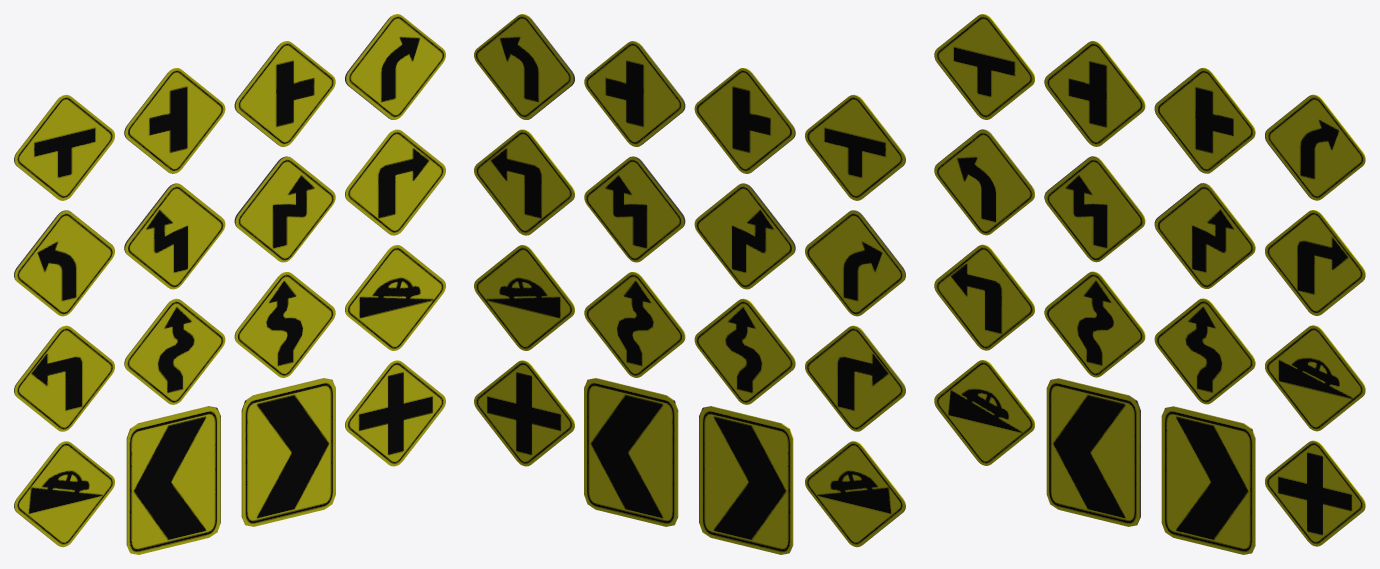
The model's file is Warning.fbx.
The picture shows the model from 3 angles, left to right: view 1: azimuth 30°, elevation 25°; view 2: azimuth 150°, elevation 25°; view 3: azimuth 330°, elevation 25°; orthographic projection.
Visible parts, largest first — view 1: T Plate.002, T Plate.016, T Plate.008, T Plate.011, T Plate.007, T Plate.004, T Plate.006, T Plate.010, T Plate.005, T Plate.009, T Plate.015, T Plate.014 (+4 smaller); view 2: T Plate.002, T Plate.016, T Plate.008, T Plate.011, T Plate.007, T Plate.004, T Plate.006, T Plate.010, T Plate.015, T Plate.005, T Plate.009, T Plate.001 (+4 smaller); view 3: T Plate.002, T Plate.016, T Plate.005, T Plate.015, T Plate.006, T Plate.008, T Plate.003, T Plate.011, T Plate.012, T Plate.007, T Plate.001, T Plate.010 (+4 smaller).
Boxes of the visible parts, x1,y1,x2,y2 form: T Plate.002: (126,406,220,554); T Plate.016: (241,378,335,526); T Plate.008: (234,156,335,262); T Plate.011: (124,298,225,404); T Plate.007: (124,183,225,289); T Plate.004: (234,41,335,146); T Plate.006: (14,210,114,316); T Plate.010: (14,325,114,431); T Plate.005: (345,14,445,119); T Plate.009: (345,129,445,235); T Plate.015: (345,360,445,466); T Plate.014: (14,441,114,547); T Plate.002: (699,406,793,554); T Plate.016: (584,378,678,526); T Plate.008: (584,156,685,262); T Plate.011: (694,298,795,404); T Plate.007: (694,183,795,289); T Plate.004: (584,41,685,146); T Plate.006: (805,210,905,316); T Plate.010: (805,325,905,431); T Plate.015: (474,360,574,466); T Plate.005: (474,14,574,119); T Plate.009: (474,129,574,235); T Plate.001: (805,94,905,200); T Plate.002: (1046,378,1140,526); T Plate.016: (1161,406,1255,554); T Plate.005: (1265,94,1365,200); T Plate.015: (1265,440,1365,546); T Plate.006: (934,129,1034,235); T Plate.008: (1154,183,1255,288); T Plate.003: (1044,41,1145,146); T Plate.011: (1044,271,1145,377); T Plate.012: (1154,298,1255,404); T Plate.007: (1044,156,1145,262); T Plate.001: (934,14,1034,119); T Plate.010: (934,244,1034,350).
Bounding box in the file's own units: 1125 × 1190 × 3.04.
1 material, 1 textured.
